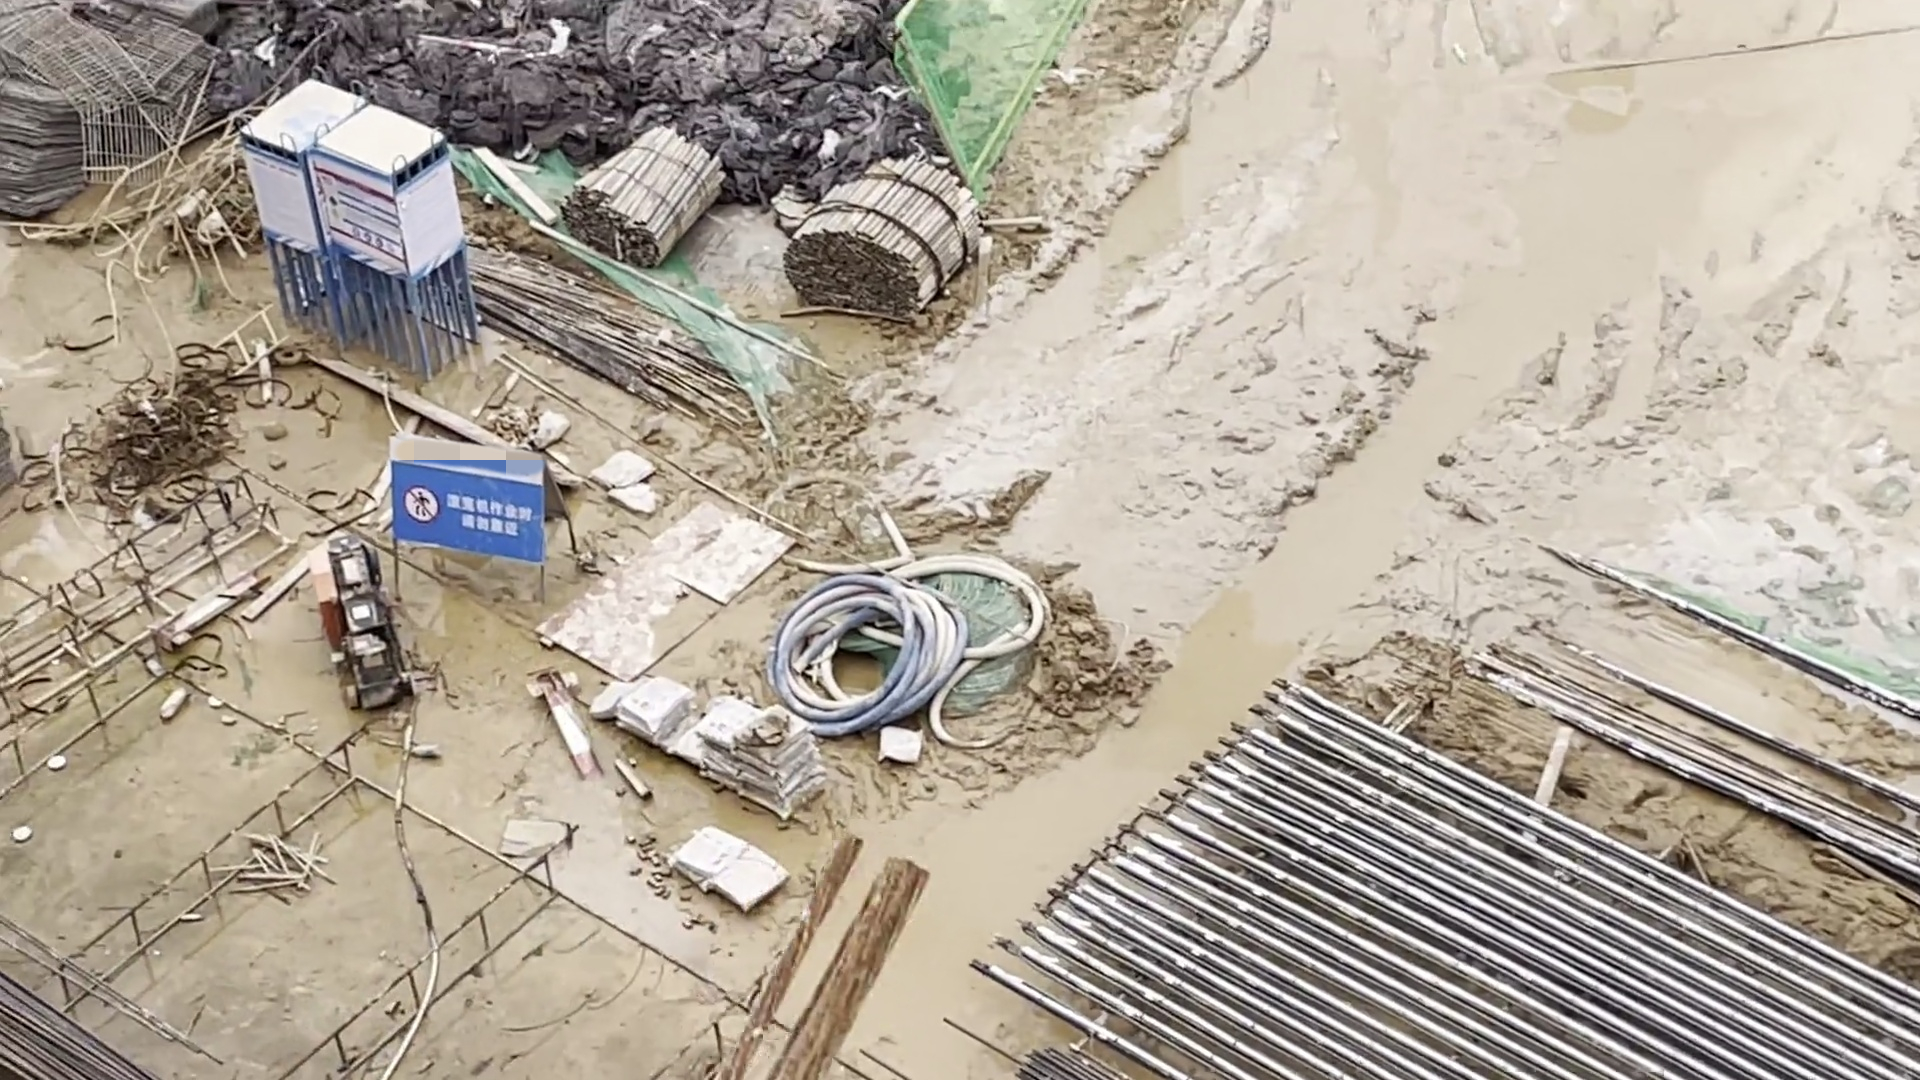slogan: (400, 465, 545, 564)
